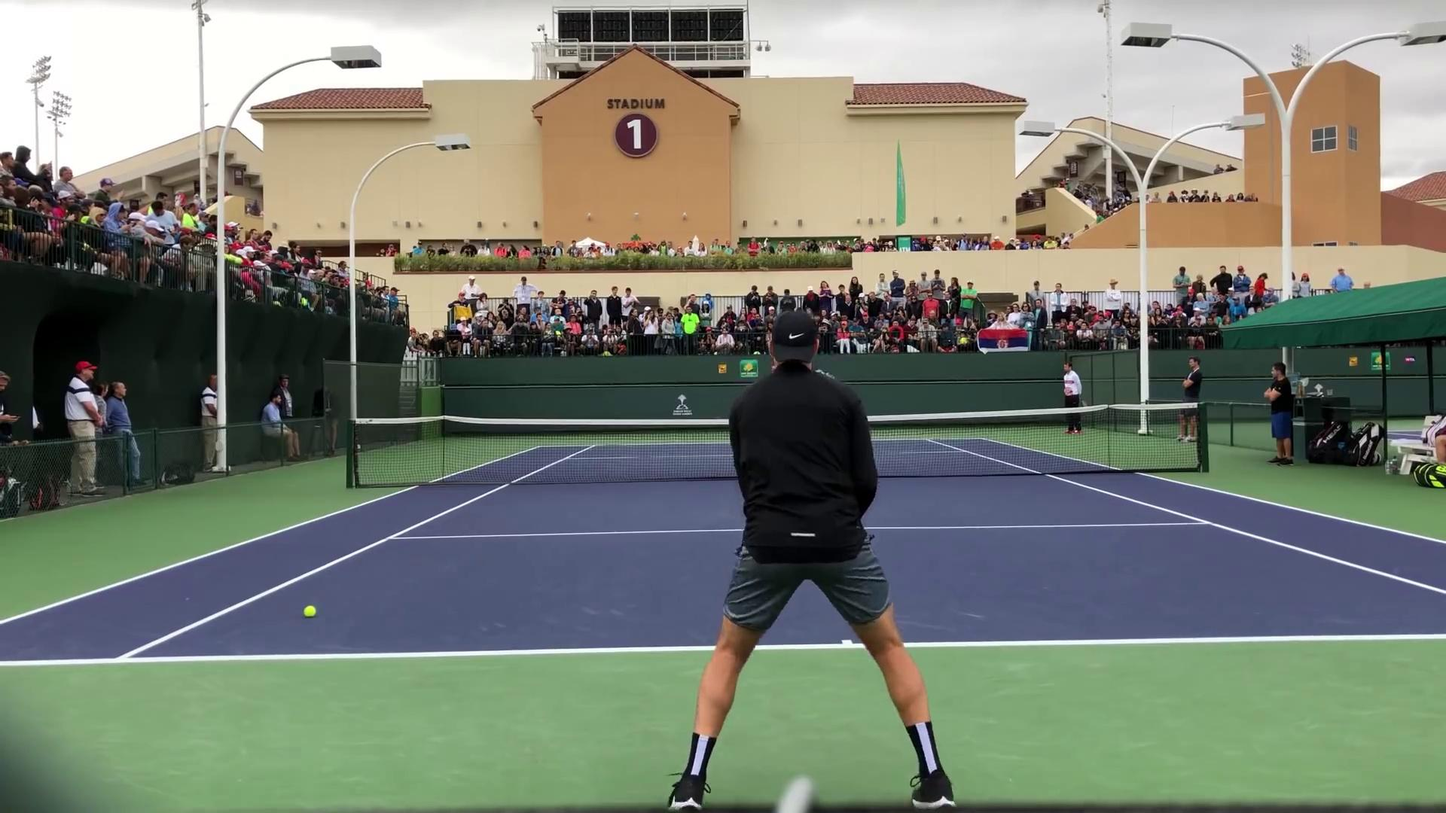ball: (303, 604, 315, 618)
